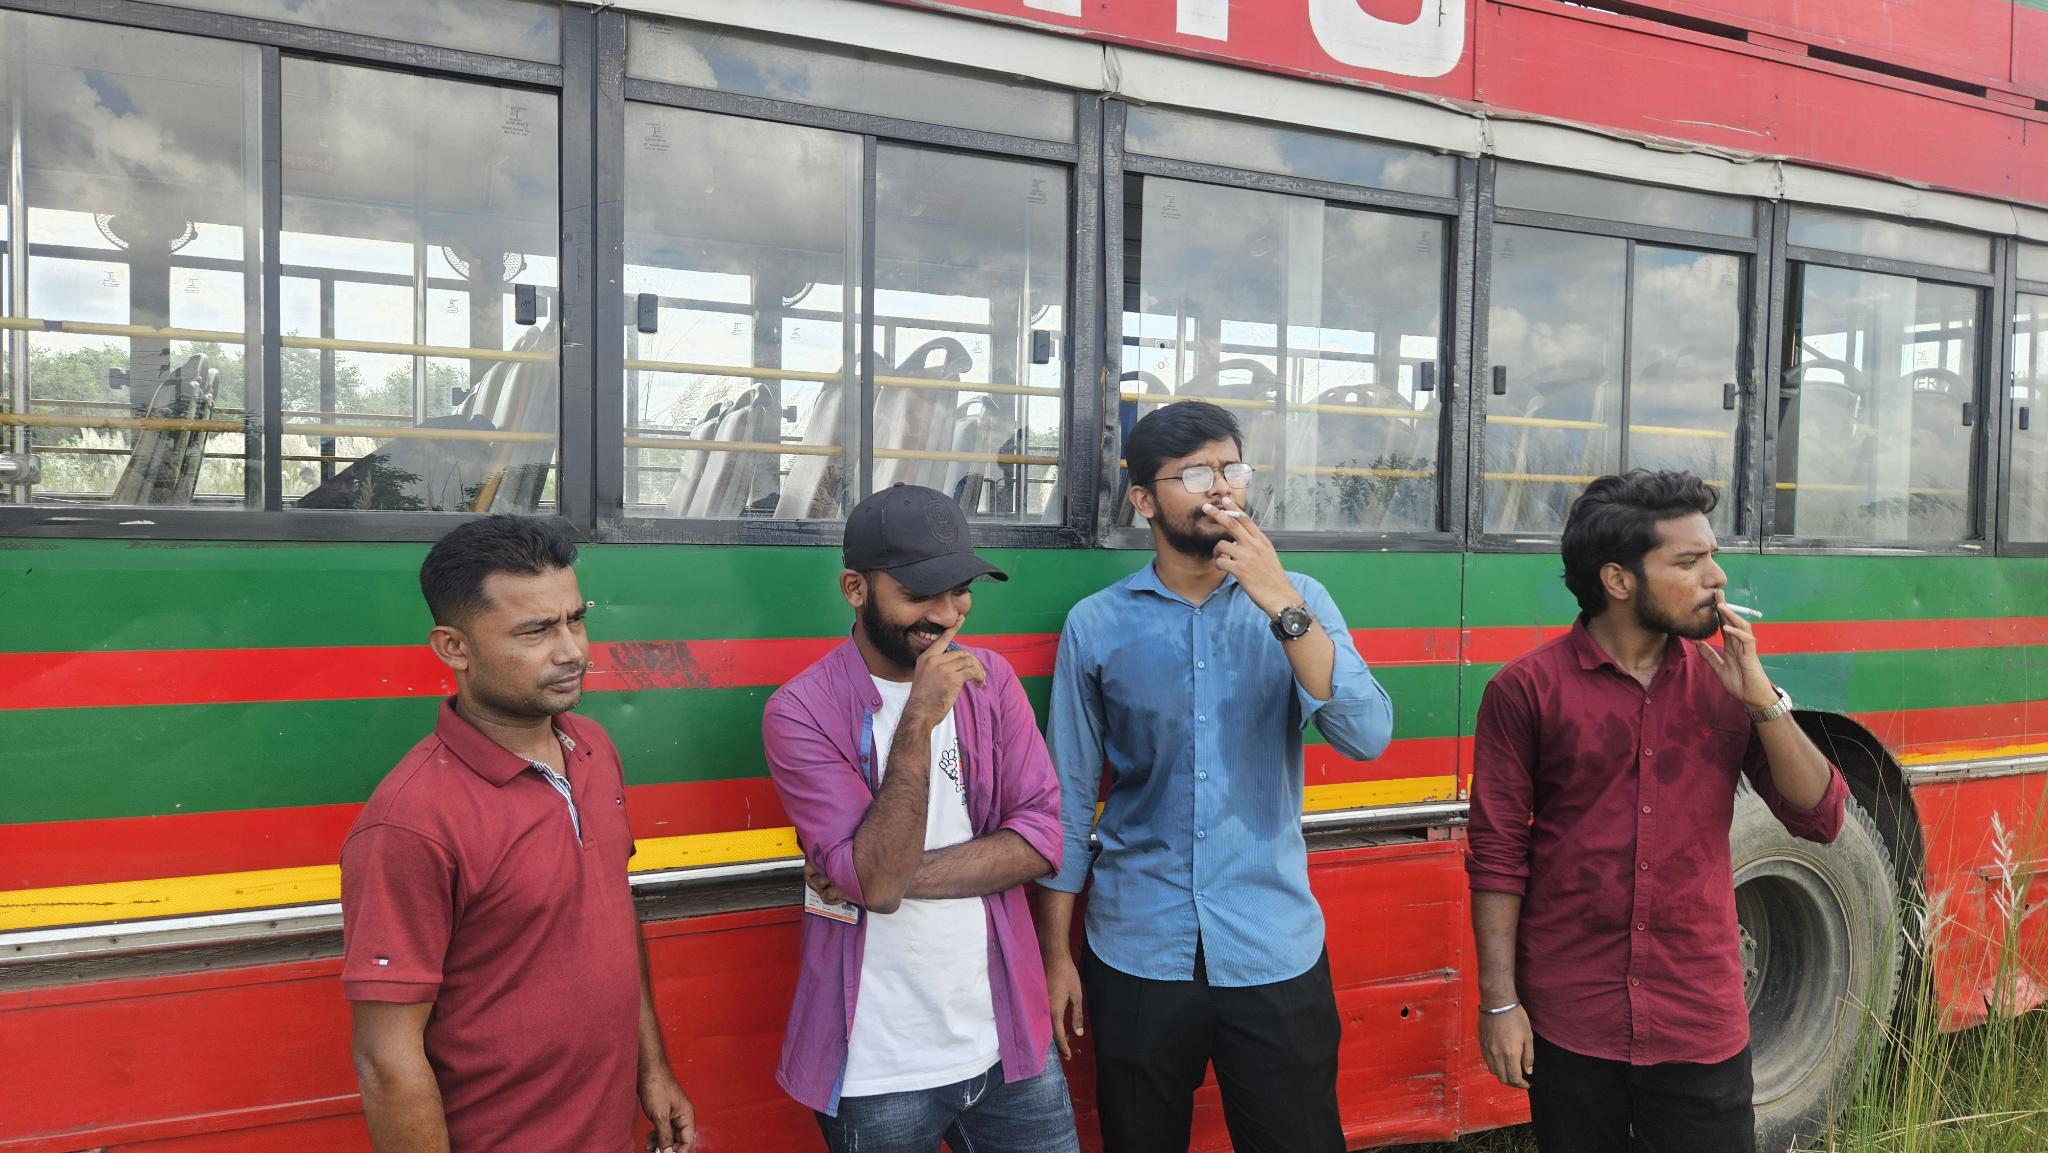cigarette: (1722, 599, 1764, 620), (1218, 509, 1246, 519)
nonSmoker: (342, 515, 696, 1153), (761, 481, 1082, 1153)
smoker: (1044, 401, 1393, 1153), (1464, 471, 1848, 1153)
